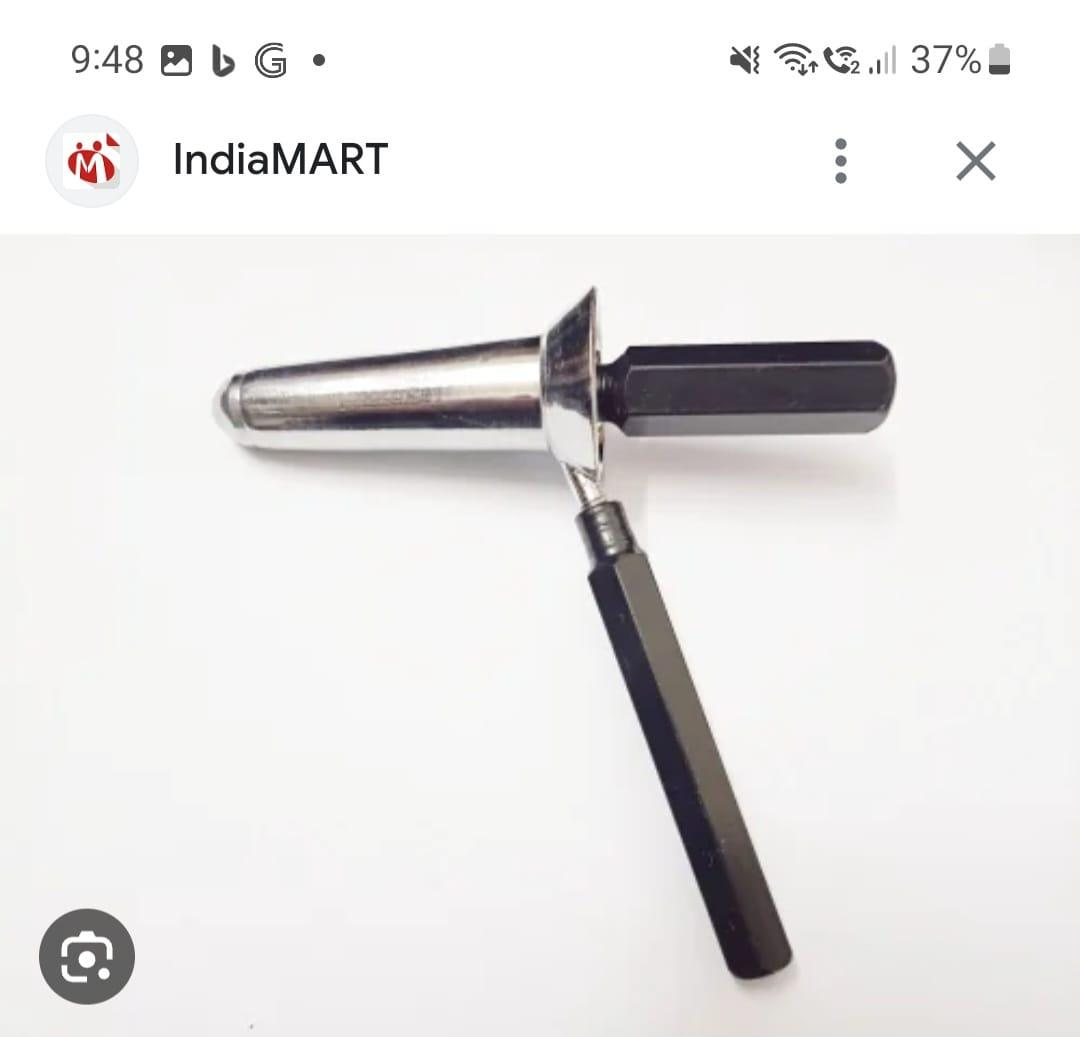Protoscope: (183, 288, 908, 988)
